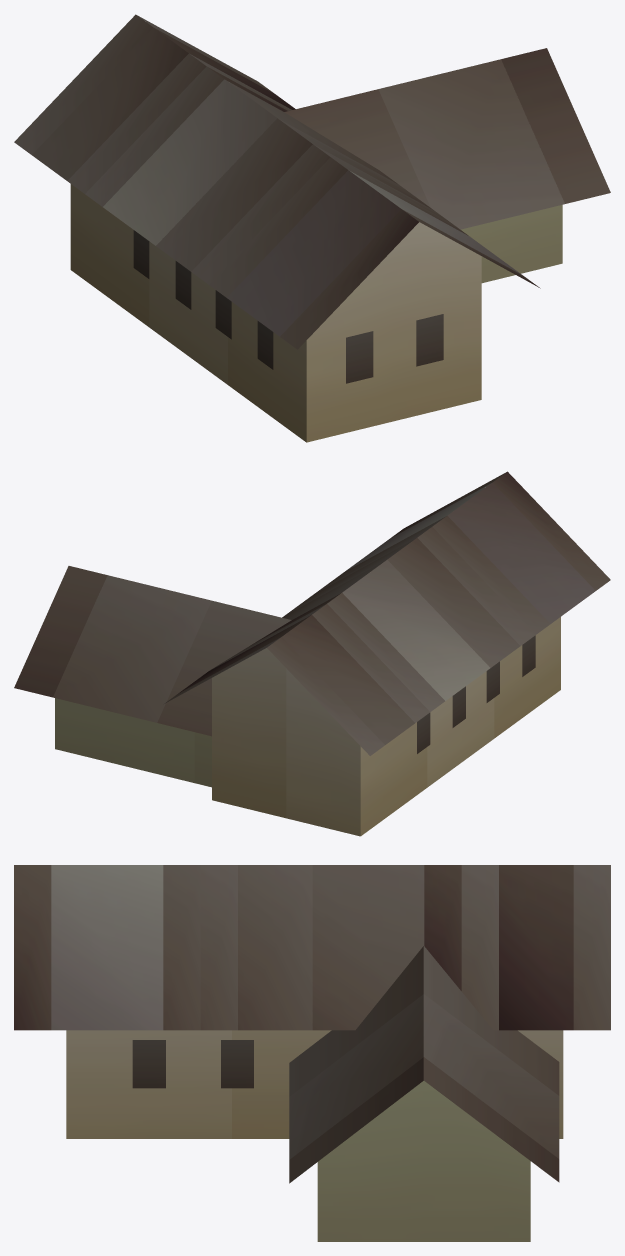
The model's file is SM_House_04.fbx.
3 views of the same model, one above another, from view 1: azimuth 30°, elevation 25°; view 2: azimuth 150°, elevation 25°; view 3: azimuth 270°, elevation 25° (orthographic). The views are drawn at different scales.
Visible parts, largest first — view 1: Plane.003; view 2: Plane.003; view 3: Plane.003.
Boxes of the visible parts, x1,y1,x2,y2 form: Plane.003: (14,14,610,442); Plane.003: (14,471,610,836); Plane.003: (14,865,610,1241).
Size of the model in its own units: 76.05 by 35.6 by 84.11.
